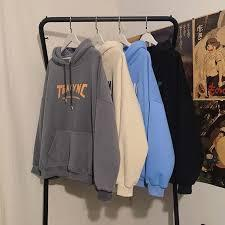sweater: (39, 47, 117, 192)
